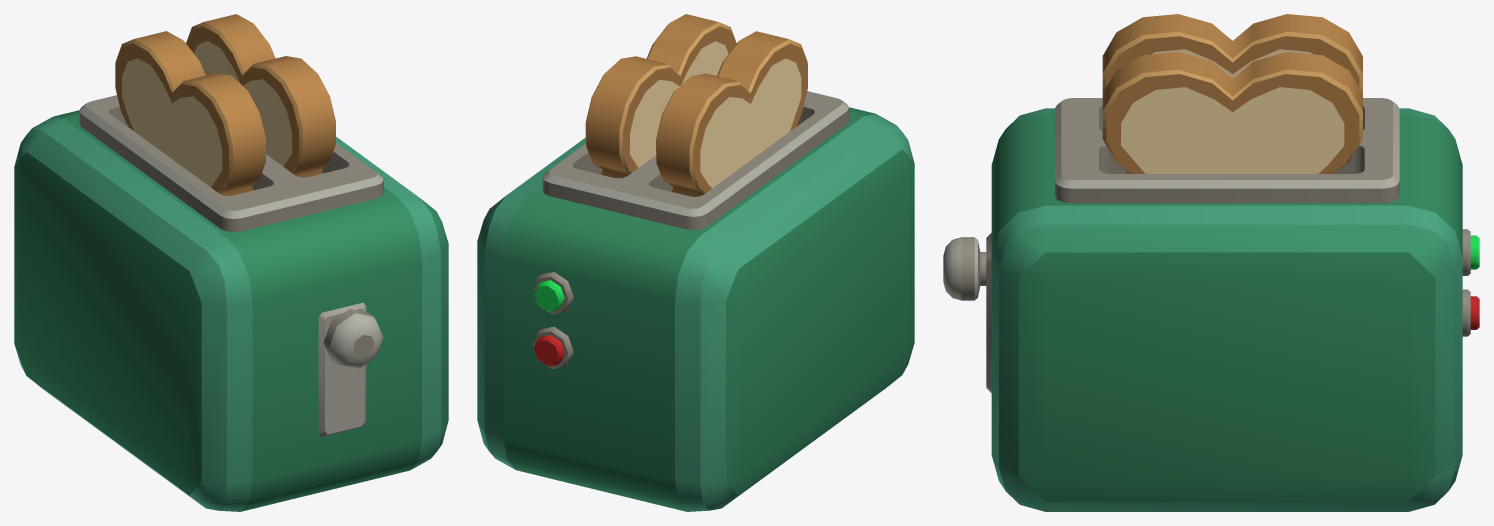
Rendered from Toster_2_D.glb.
The picture shows the model from 3 angles, left to right: view 1: azimuth 30°, elevation 25°; view 2: azimuth 150°, elevation 25°; view 3: azimuth 270°, elevation 25°; orthographic projection. The views are drawn at different scales.
Visible parts, largest first — view 1: Toster_2_D; view 2: Toster_2_D; view 3: Toster_2_D.
Part boxes in pixels (box(x1,y1,x2,y2)): Toster_2_D: box(14, 14, 448, 511); Toster_2_D: box(477, 14, 914, 511); Toster_2_D: box(943, 14, 1479, 511).
Size of the model in its own units: 0.209 by 0.2895 by 0.3373.
2 materials, 2 textured.
